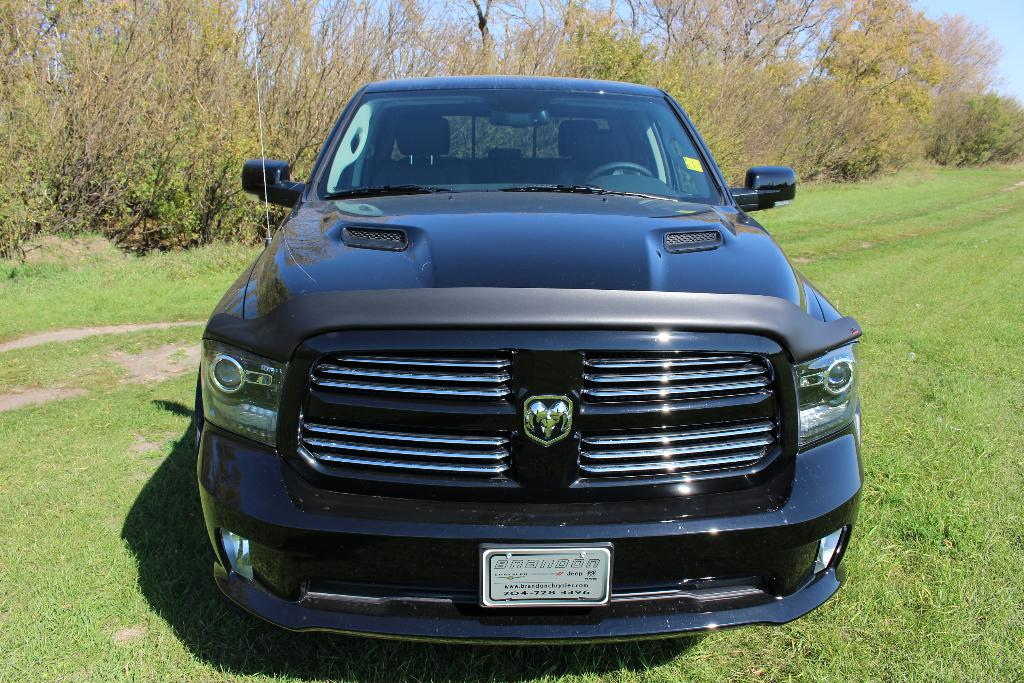Car: (183, 81, 872, 638)
